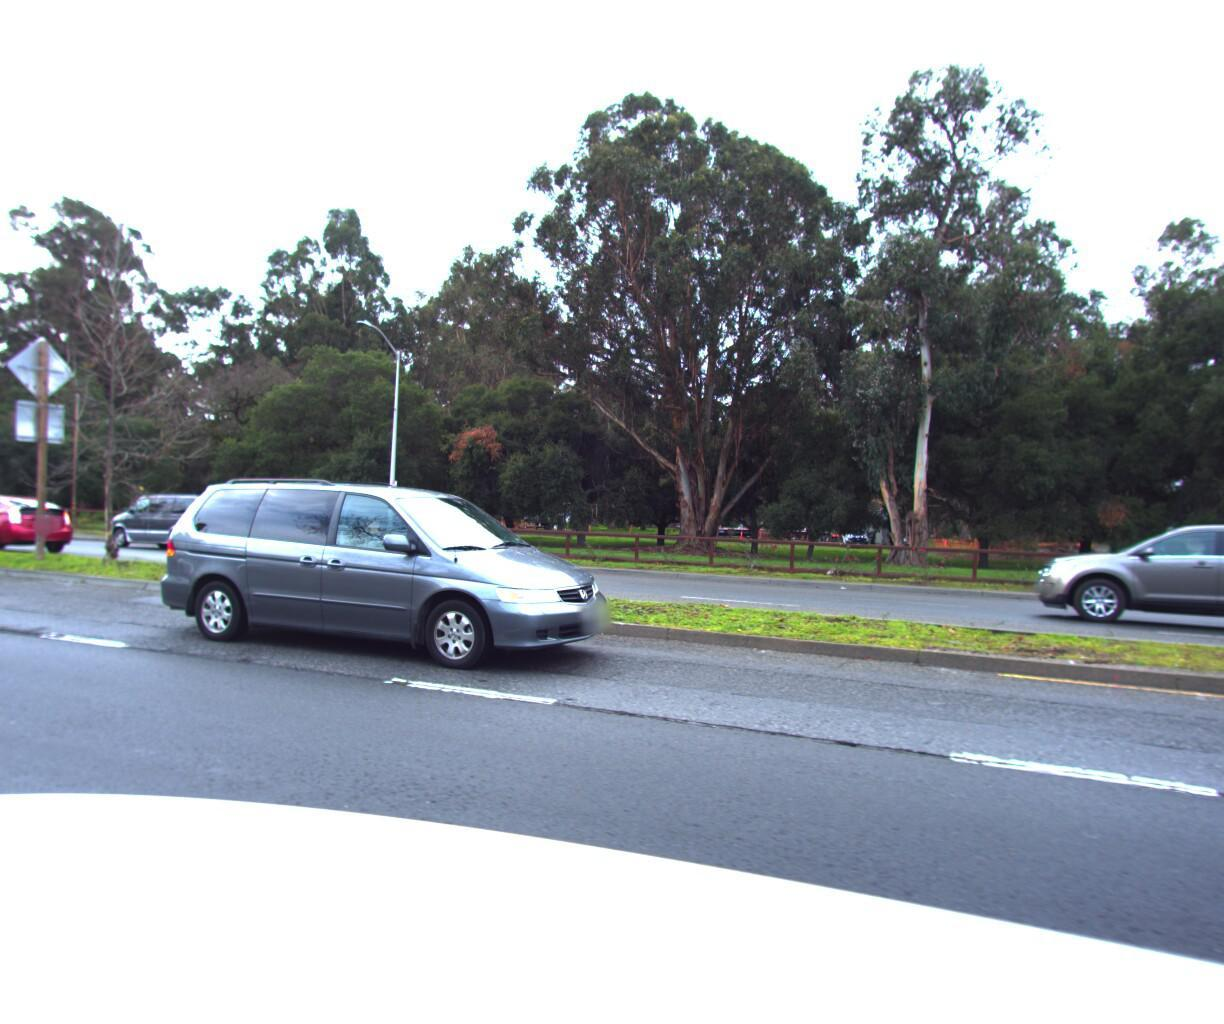car: (140, 471, 624, 691), (1029, 507, 1224, 645), (99, 494, 243, 556), (0, 493, 85, 556)
